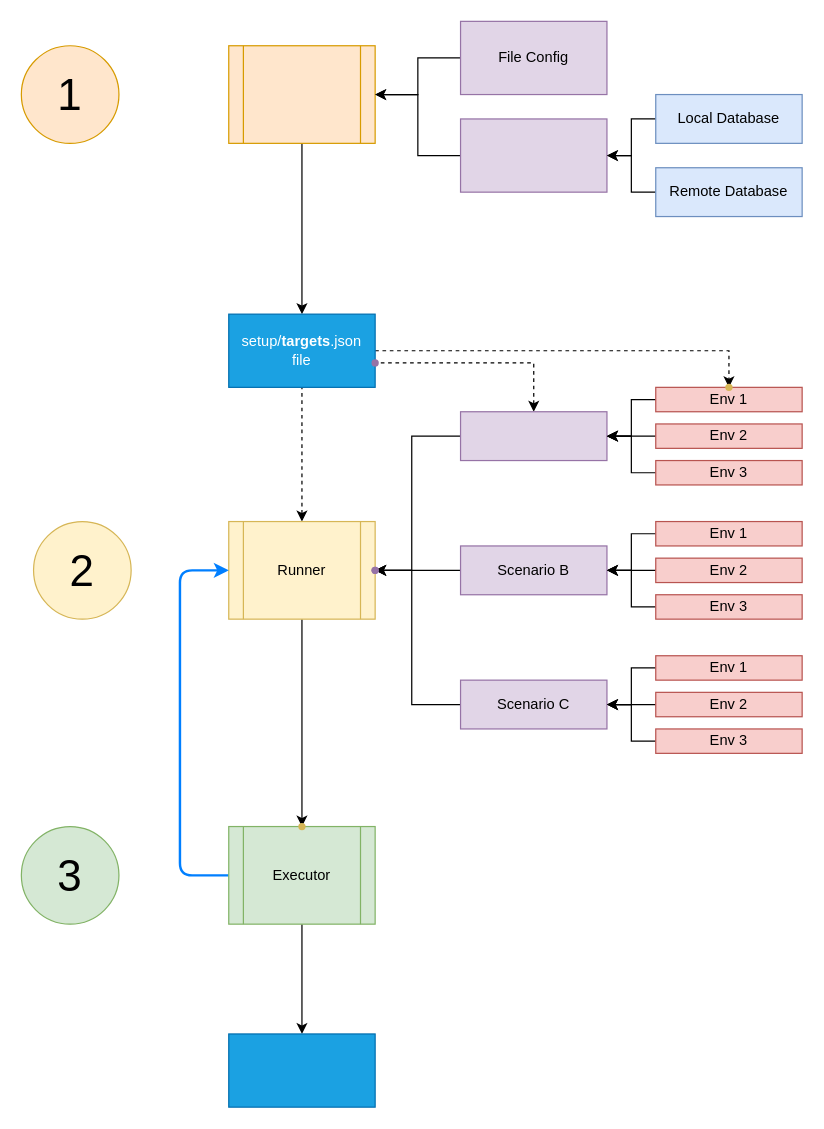
Image size: 824x1129. Some labels were removed from this diagram. The centre of each missing label's shape, as x and y in pixels:
"Configurator" goes at point 301,94.
"Database config" goes at point 533,155.
"Results" goes at point 301,1070.
"Scenario A" goes at point 533,436.
